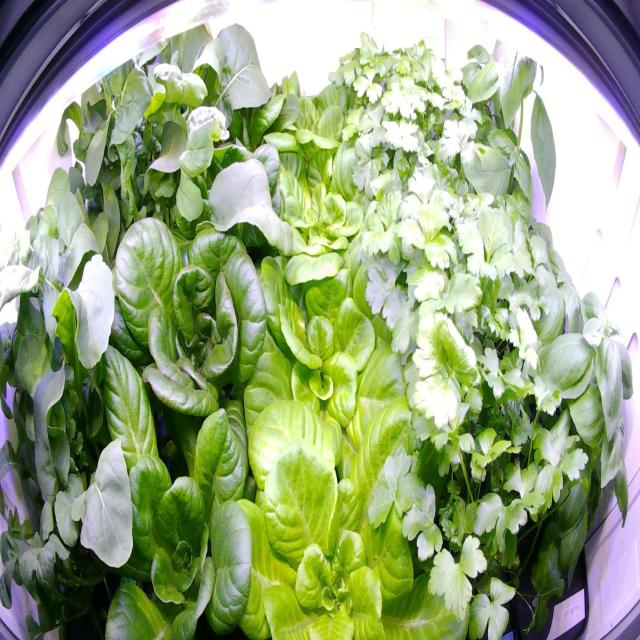Ready: (212, 365, 483, 637), (58, 331, 276, 639), (219, 231, 436, 482), (75, 196, 274, 450), (240, 126, 398, 295), (243, 57, 369, 183)
